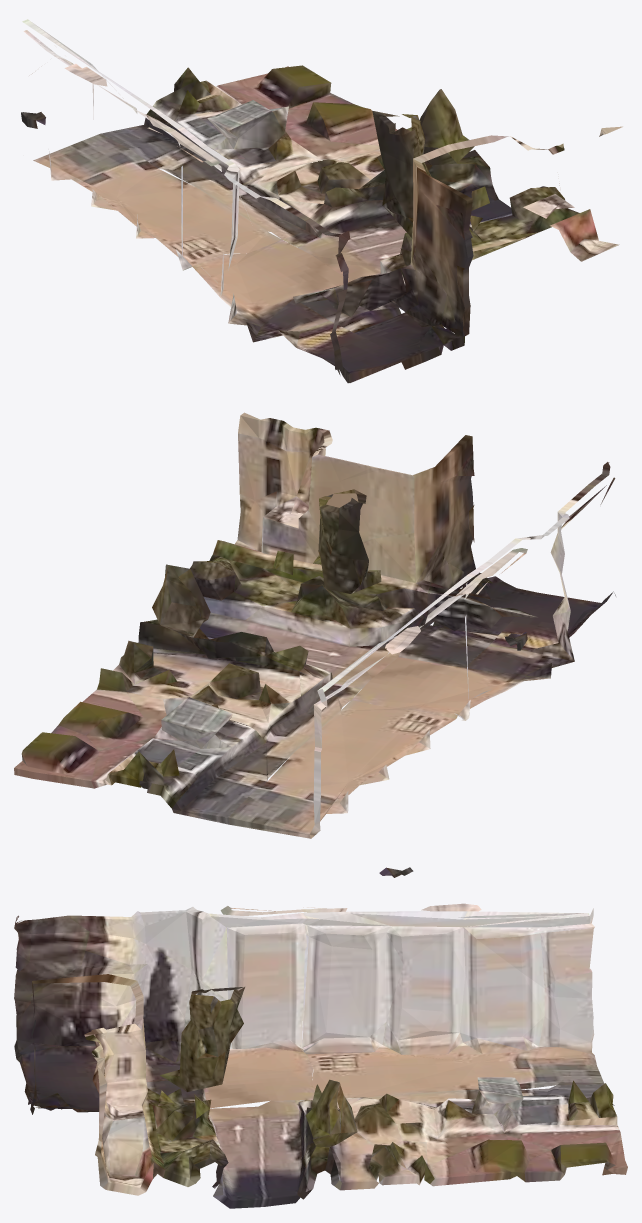
3 views of the same model, one above another, from view 1: azimuth 30°, elevation 25°; view 2: azimuth 150°, elevation 25°; view 3: azimuth 270°, elevation 25° (orthographic). The views are drawn at different scales.
Visible parts, largest first — view 1: Mesh_0; view 2: Mesh_0; view 3: Mesh_0.
Boxes of the visible parts, left/top/right/bottom form: Mesh_0: left=21, top=19, right=622, bottom=383; Mesh_0: left=14, top=412, right=615, bottom=838; Mesh_0: left=14, top=867, right=627, bottom=1208.
Size of the model in its own units: 31.74 by 11.28 by 40.85.
Materials: 1 (1 with a texture image).
